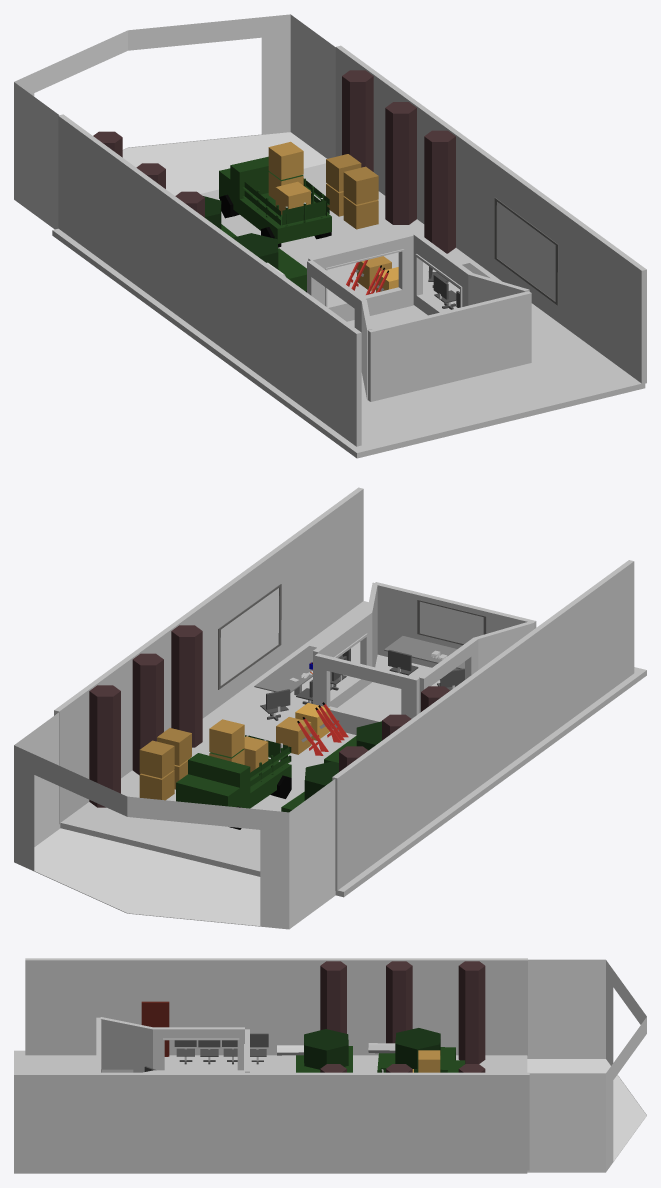
Rendered from hadi_bakalm.fbx.
3 views of the same model, one above another, from view 1: azimuth 30°, elevation 25°; view 2: azimuth 150°, elevation 25°; view 3: azimuth 270°, elevation 25° (orthographic). The views are drawn at different scales.
Parts seen in each view (by area): view 1: Cube.031, Cube.037, Cylinder.005, Cube.004, Cube.002, Cylinder.014, Cube.007, Cylinder.006, Cube, Cylinder.004, Cube.050, Cylinder.007 (+7 smaller); view 2: Cube.031, Cylinder.005, Cube.004, Cube.037, Cylinder.014, Cube.007, Cube.002, Cylinder.004, Cube, Cylinder.007, Cylinder.006, Cube.050 (+9 smaller); view 3: Cube.004, Cube.031, Cylinder.005, Cube.037, Cube.003, Cylinder.008, Cylinder.011, Cylinder.009, Cylinder.010, Cylinder, Cylinder.014, Cube.061 (+5 smaller).
Part boxes in pixels (bbox=[...]): Cube.031: bbox=[58, 114, 361, 446]; Cube.037: bbox=[52, 163, 645, 458]; Cylinder.005: bbox=[14, 14, 335, 229]; Cube.004: bbox=[335, 45, 646, 384]; Cube.002: bbox=[368, 291, 531, 401]; Cylinder.014: bbox=[219, 141, 331, 247]; Cube.007: bbox=[494, 197, 558, 305]; Cylinder.006: bbox=[385, 102, 416, 224]; Cube: bbox=[308, 233, 413, 321]; Cylinder.004: bbox=[424, 130, 455, 253]; Cube.050: bbox=[413, 233, 529, 315]; Cylinder.007: bbox=[342, 70, 373, 171]; Cube.031: bbox=[332, 560, 634, 891]; Cylinder.005: bbox=[14, 712, 335, 929]; Cube.004: bbox=[54, 487, 363, 824]; Cube.037: bbox=[60, 601, 646, 897]; Cylinder.014: bbox=[176, 719, 291, 829]; Cube.007: bbox=[218, 584, 281, 689]; Cube.002: bbox=[375, 582, 536, 670]; Cylinder.004: bbox=[171, 625, 202, 747]; Cube: bbox=[314, 653, 419, 734]; Cylinder.007: bbox=[89, 685, 120, 807]; Cylinder.006: bbox=[132, 653, 163, 775]; Cube.050: bbox=[313, 582, 377, 707]; Cube.004: bbox=[14, 1072, 529, 1170]; Cube.031: bbox=[25, 958, 527, 1055]; Cylinder.005: bbox=[527, 959, 646, 1172]; Cube.037: bbox=[14, 1050, 527, 1173]; Cube.003: bbox=[100, 1017, 244, 1072]; Cylinder.008: bbox=[458, 961, 485, 1063]; Cylinder.011: bbox=[368, 1028, 455, 1072]; Cylinder.009: bbox=[386, 961, 412, 1043]; Cylinder.010: bbox=[320, 961, 346, 1033]; Cylinder: bbox=[304, 1029, 348, 1069]; Cylinder.014: bbox=[380, 1050, 465, 1072]; Cube.061: bbox=[142, 1004, 168, 1056].
Bounding box in the file's own units: 966 × 388 × 2168.
